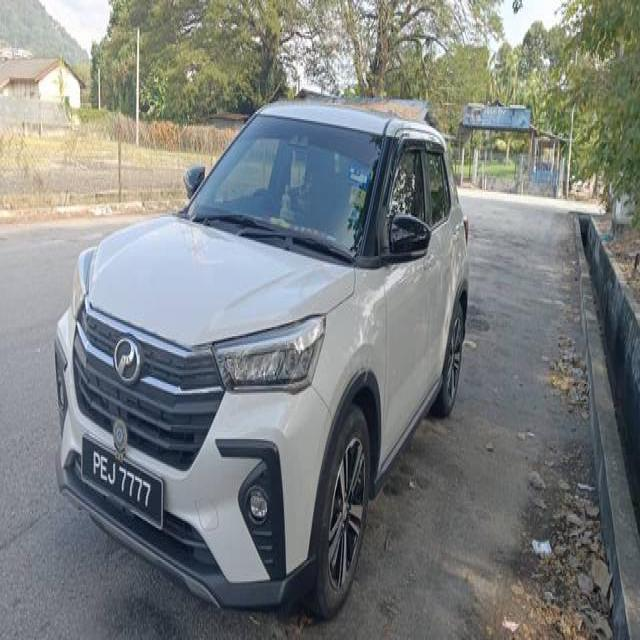PeroduaAtiva: (51, 96, 471, 620)
